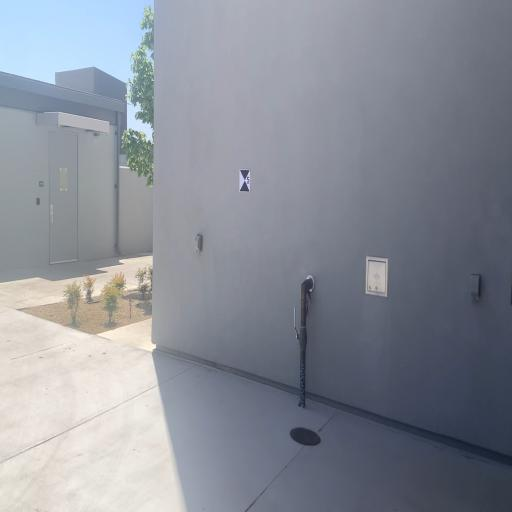target5: (240, 169, 250, 194)
